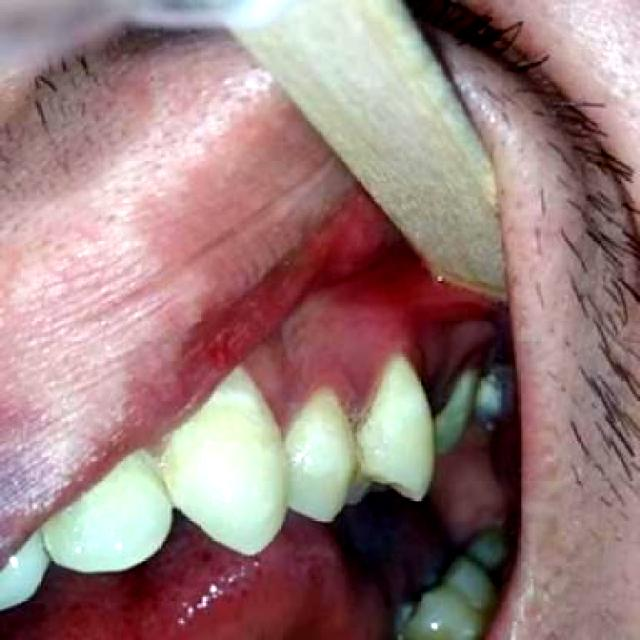Plaque: (254, 306, 425, 429)
